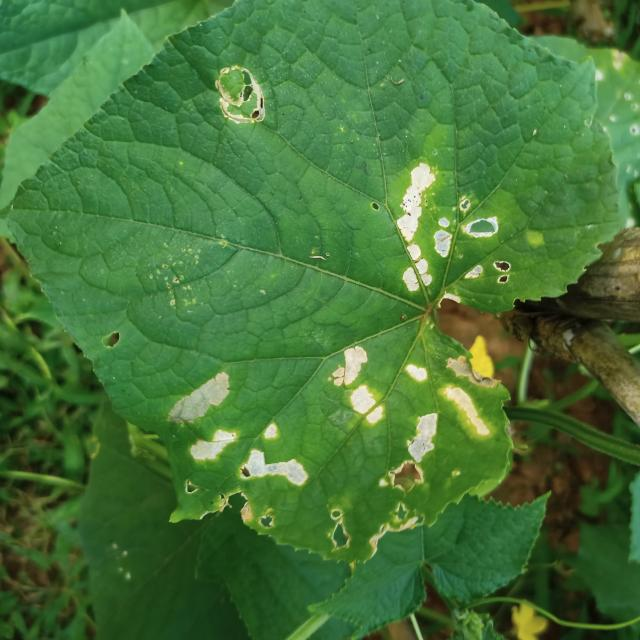disease_cucumber: (388, 159, 515, 316), (386, 339, 502, 498), (166, 368, 239, 466), (243, 420, 313, 494), (326, 345, 386, 425)
